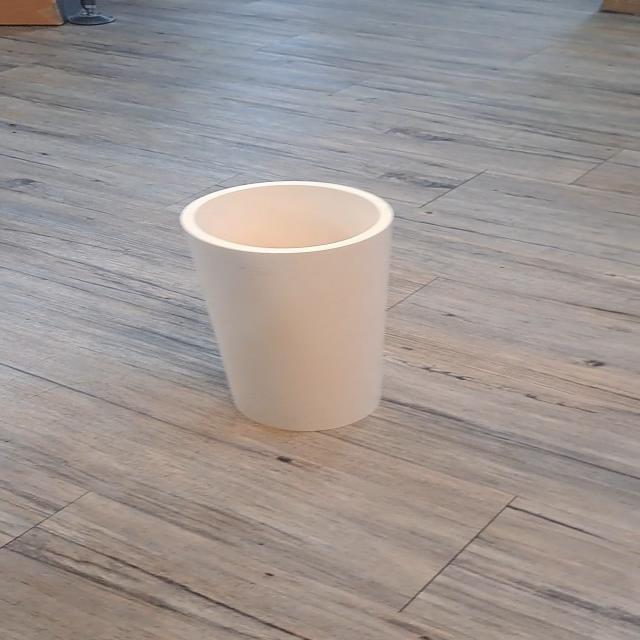CORAL: (149, 167, 485, 468)
